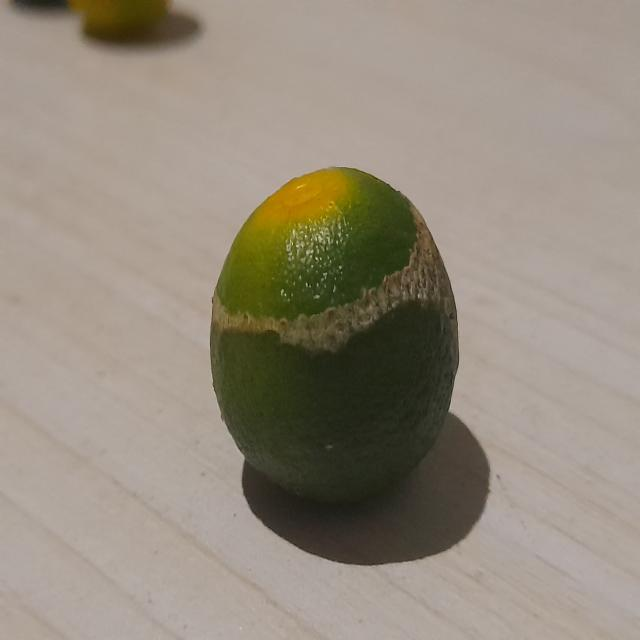thrips: (205, 158, 463, 512)
